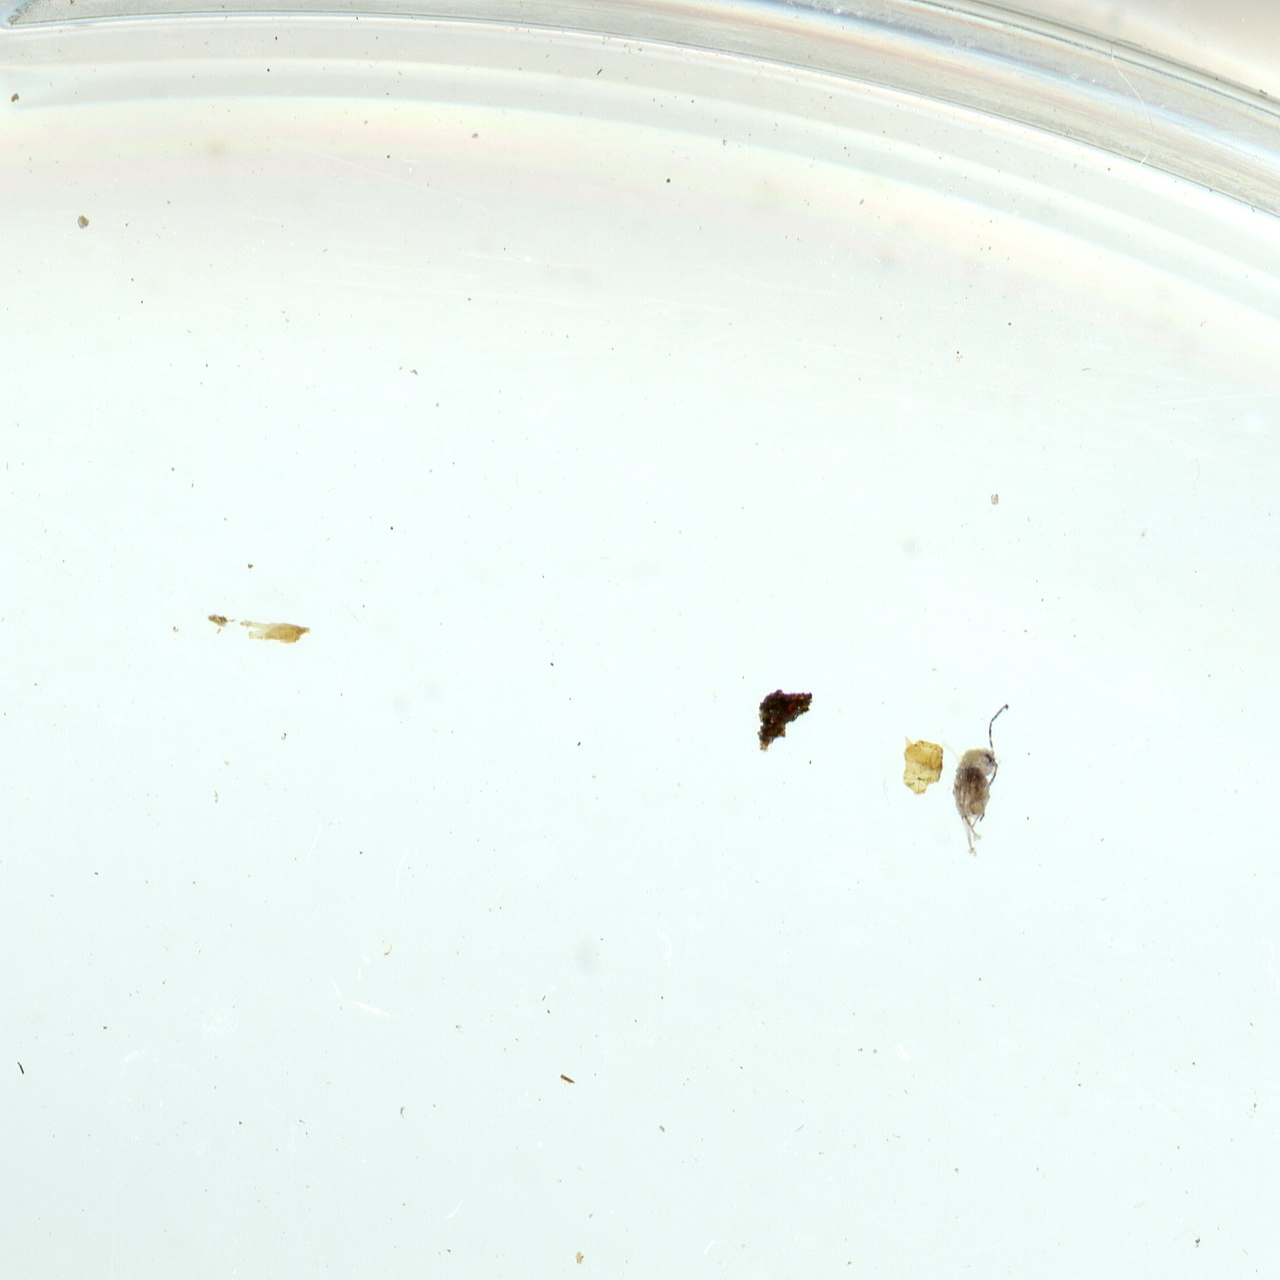arthropod: (944, 694, 1015, 859)
